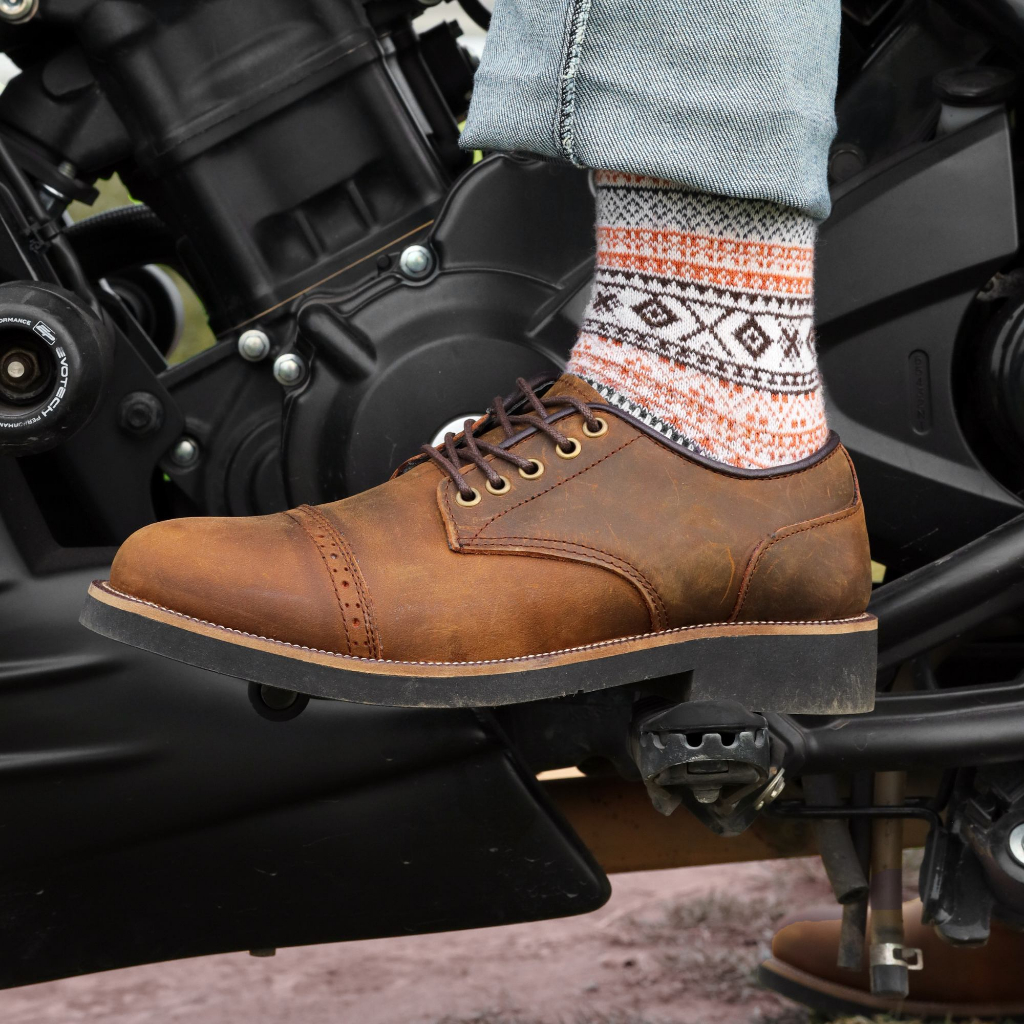derby: (76, 371, 880, 716)
